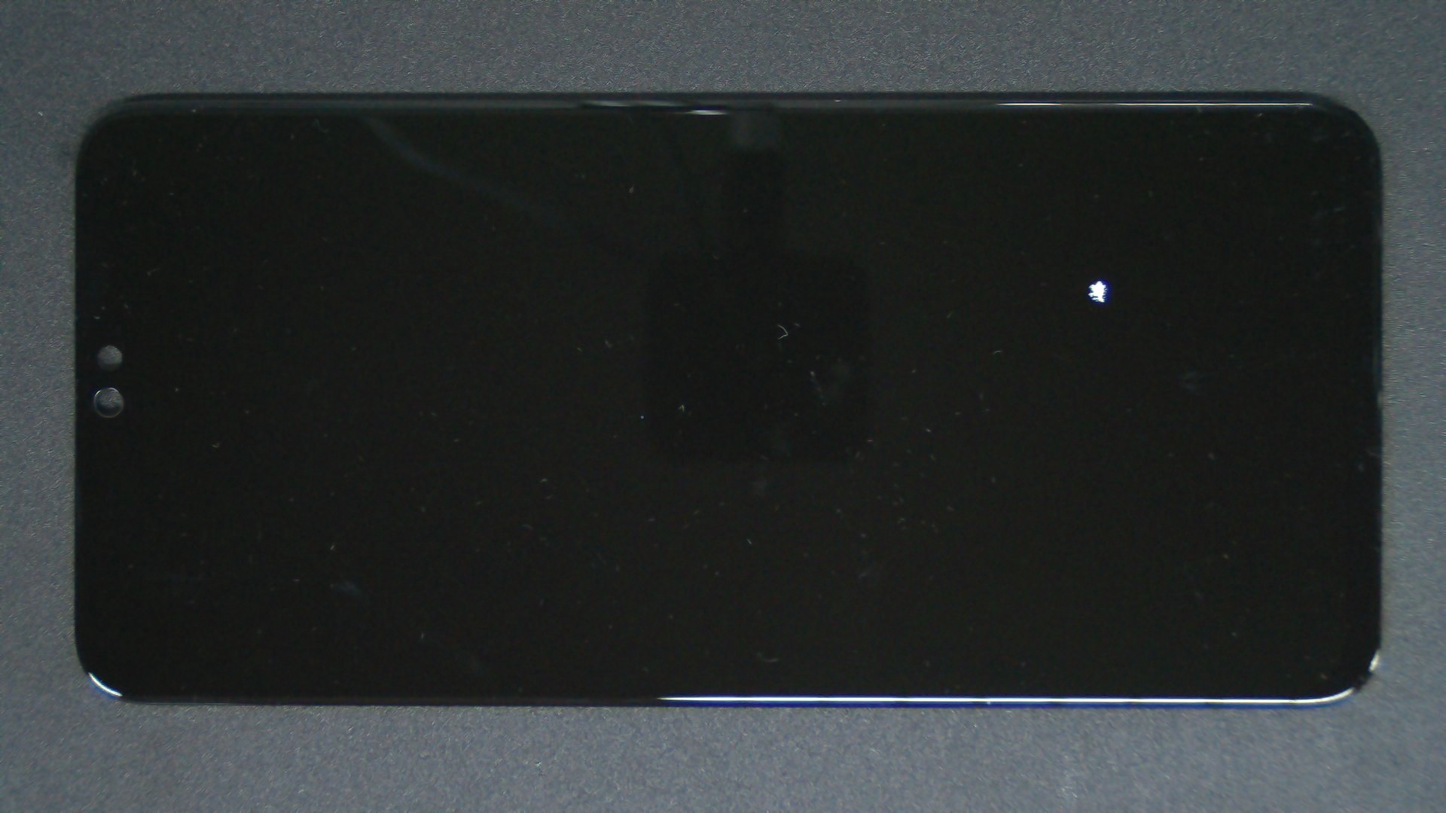Dislodged Screen: (1061, 254, 1143, 352)
